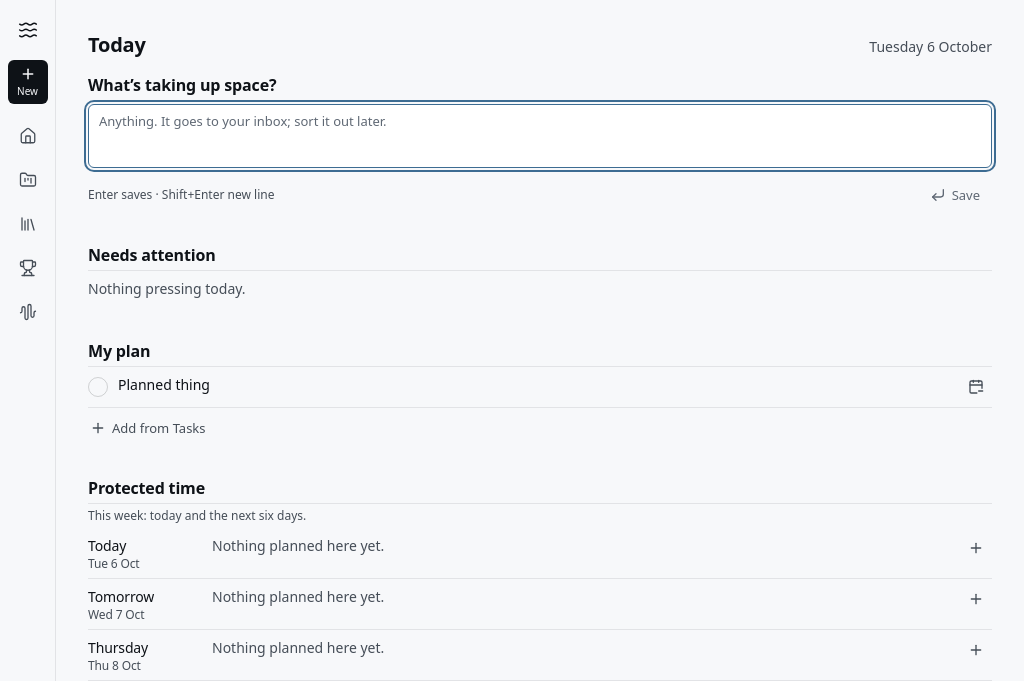
Test: Today page › completing a task removes it from Today and keeps it in Tasks history
expect the heading "Today" is shown: met, box [88,32,146,58]
expect the heading "Needs attention" is shown: met, box [88,244,216,266]
Click the button named "Complete: Planned thing": click(98, 387) [86,375,110,399]
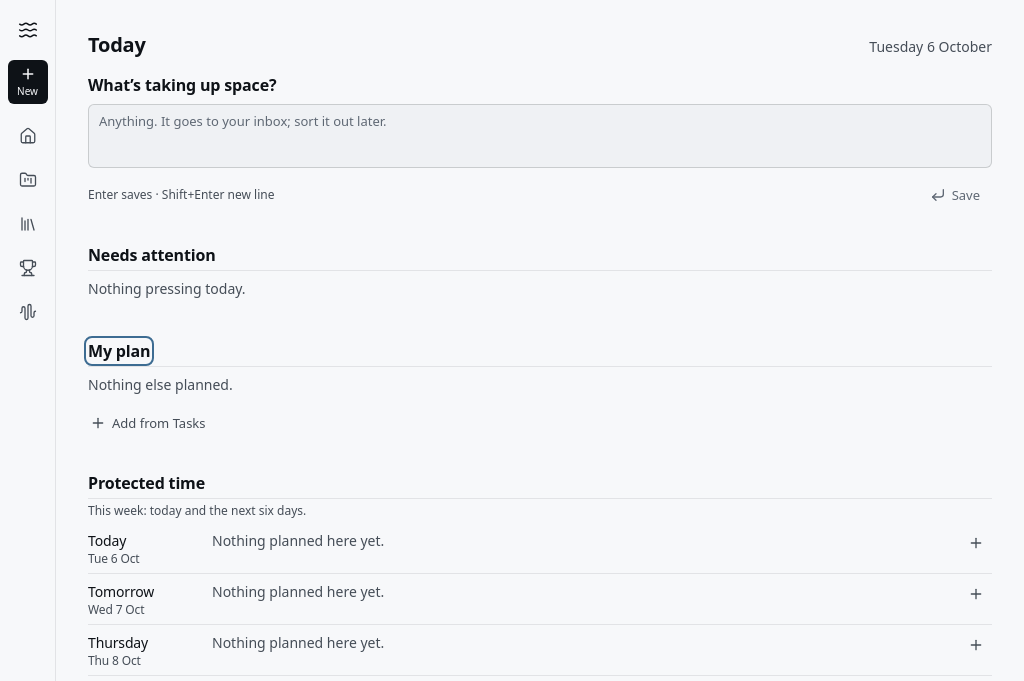
expect the text "Planned thing" is gone: met
